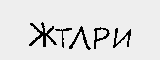Ж: (28, 19, 55, 49)
И: (112, 25, 132, 51)
Л: (71, 22, 91, 51)
Р: (90, 24, 110, 51)
Т: (55, 27, 71, 47)
